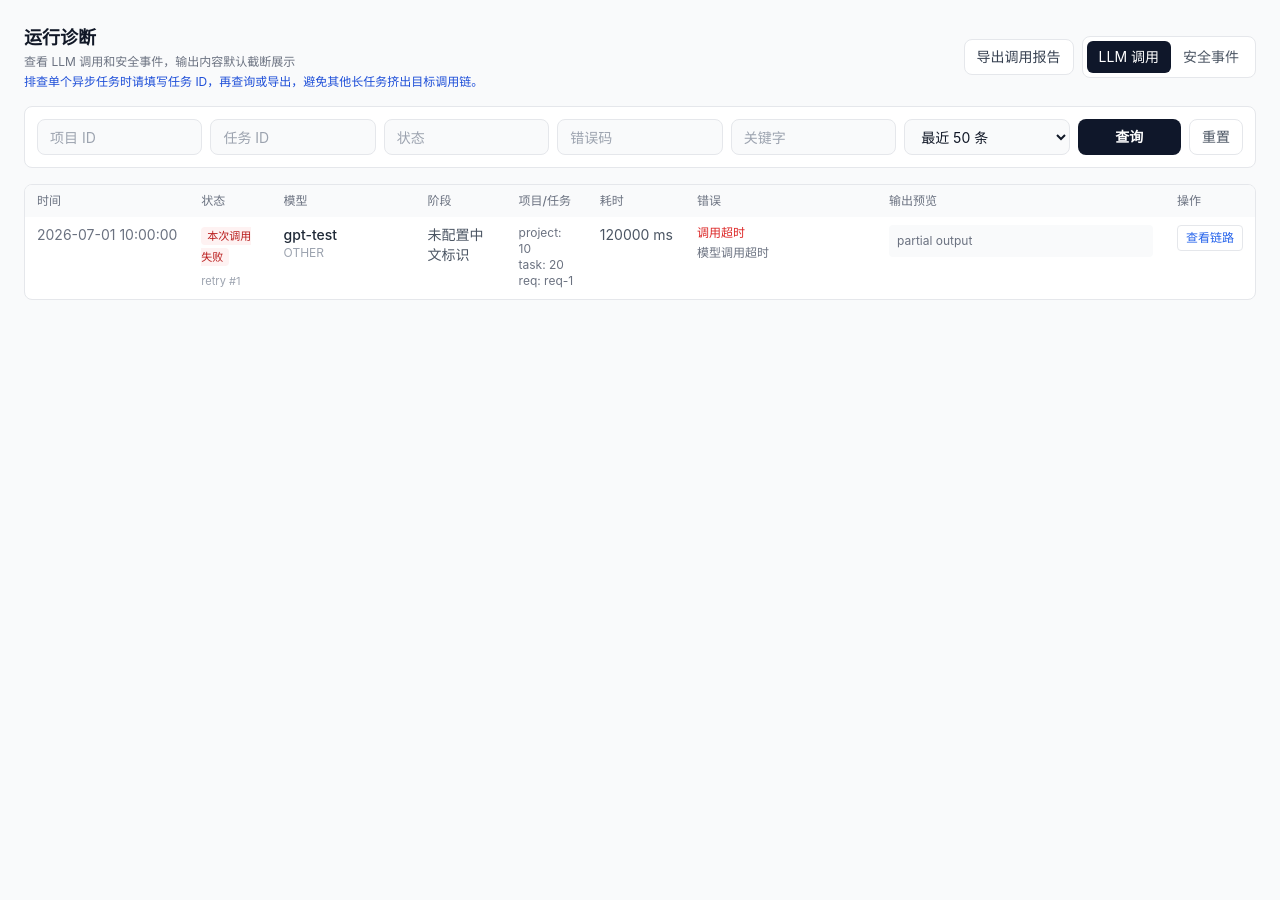
Test: RuntimeDiagnostics › opens authorized full snapshot from chain drawer
Expected: the text "gpt-test" is shown, [284,226,337,243]
Click the button "查看链路" at (1210, 238), box [1177,225,1243,251]
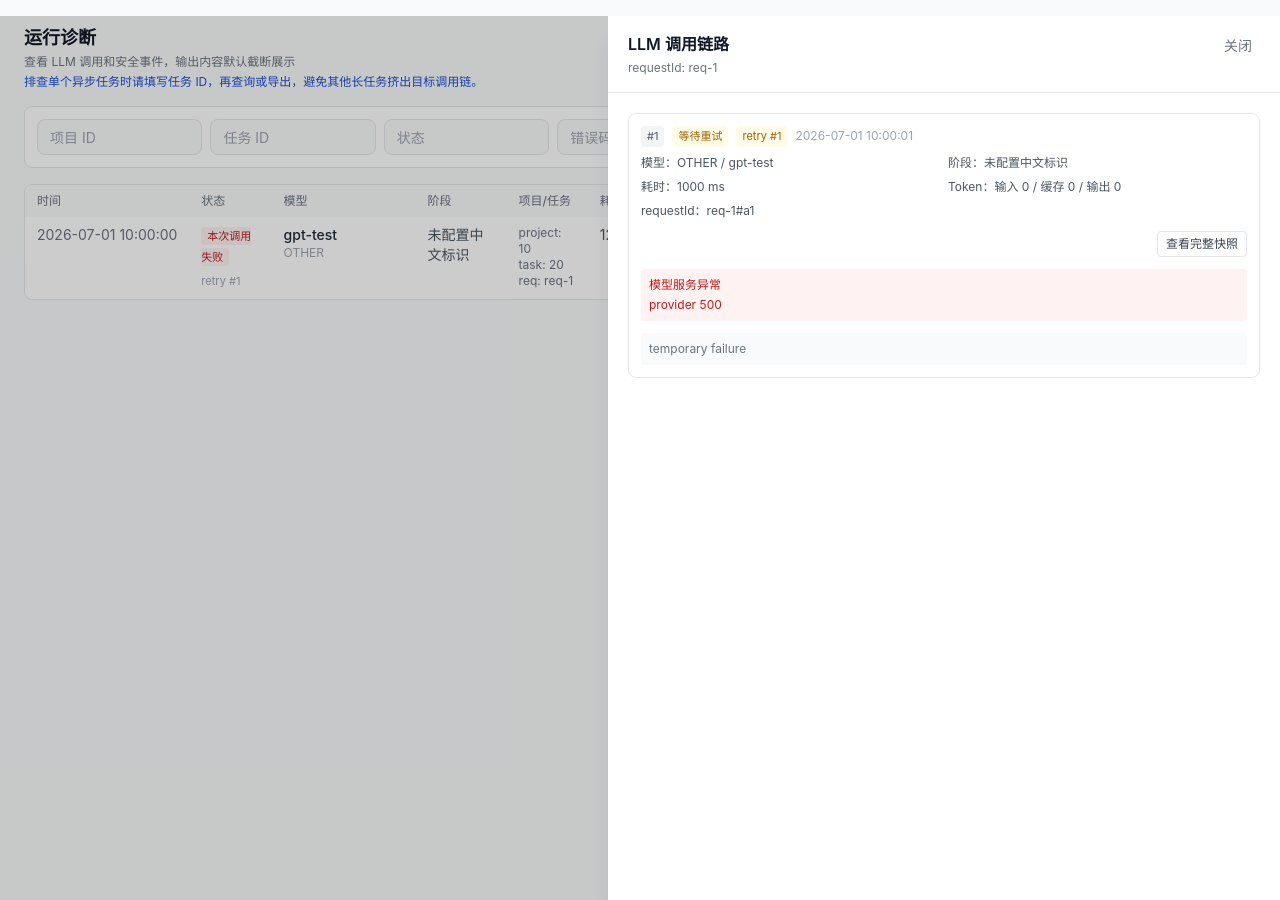
Expected: the text "temporary failure" is shown, [641,332,1247,364]
Click the button "查看完整快照" at (1202, 244), box [1157,230,1247,256]
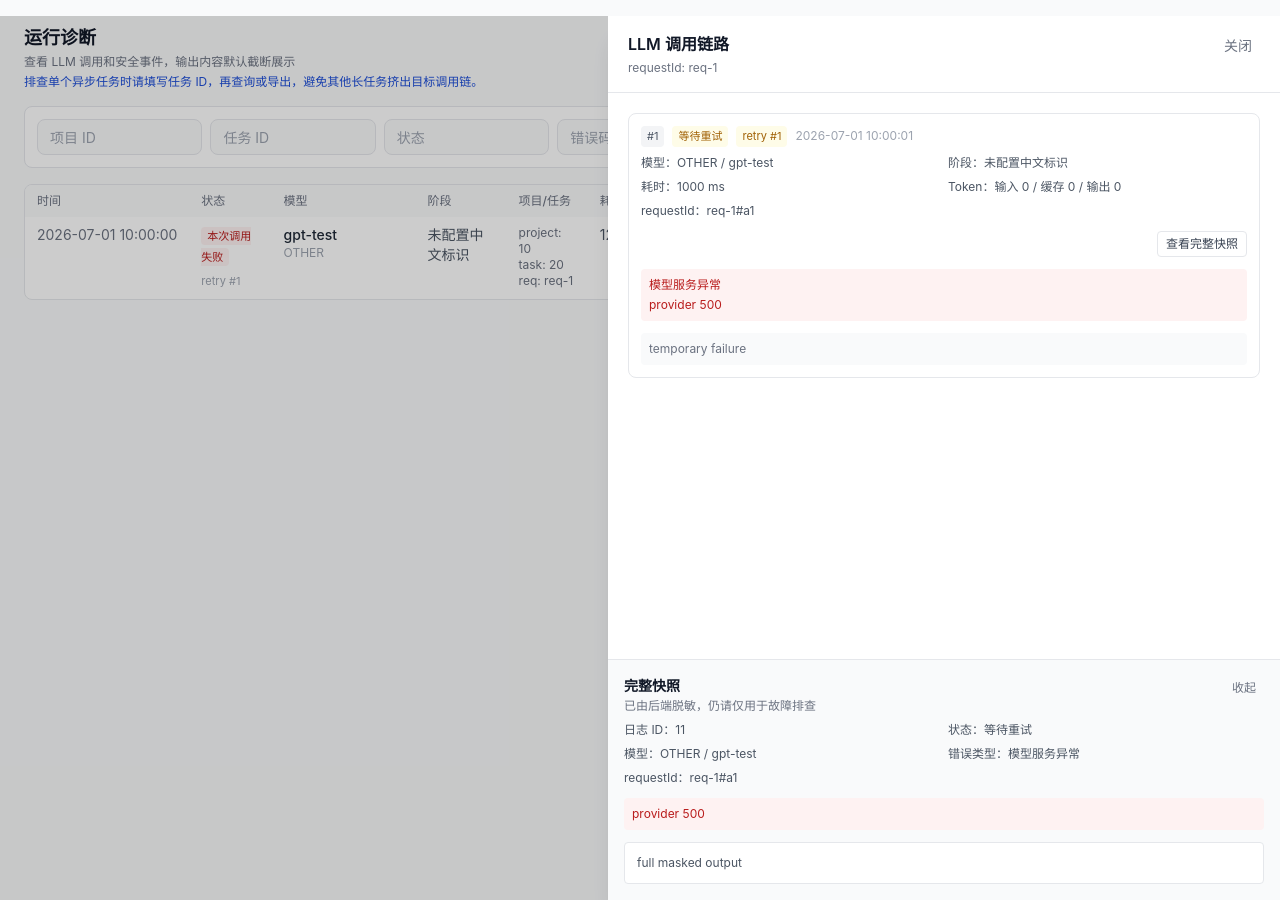
Expected: the heading "完整快照" is shown, [624,677,680,694]
Expected: the text "full masked output" is shown, [624,842,1264,884]
